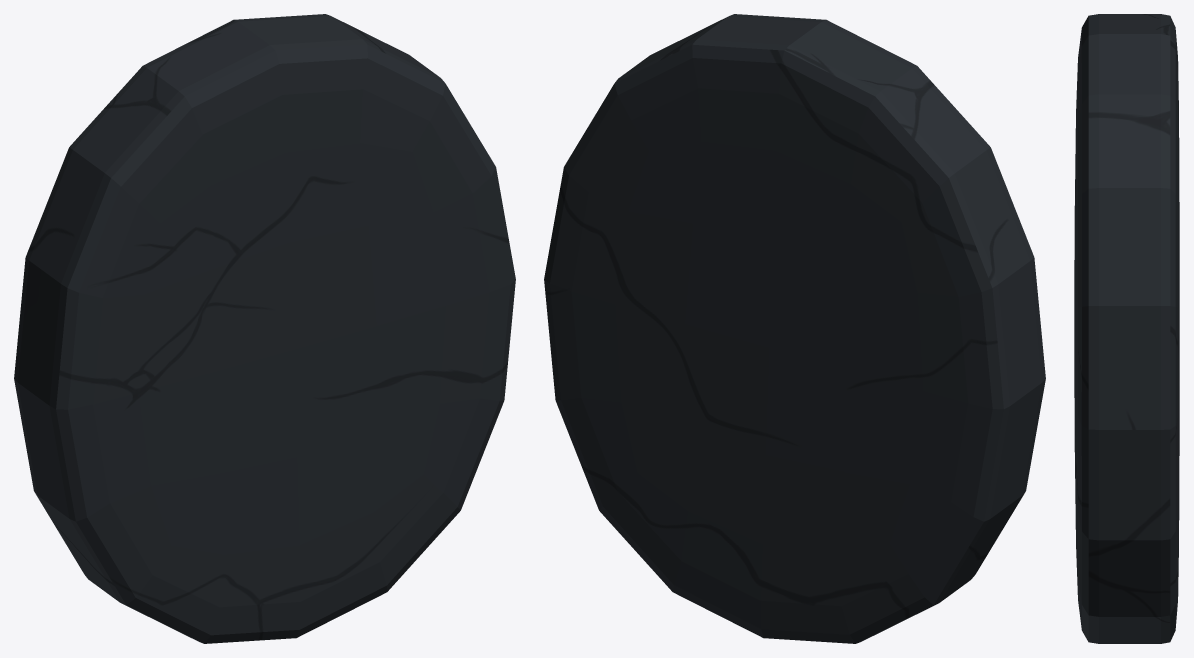
File: Doors.fbx
3 views of the same model, side by side, from view 1: azimuth 30°, elevation 25°; view 2: azimuth 150°, elevation 25°; view 3: azimuth 270°, elevation 25° (orthographic). The views are drawn at different scales.
Parts seen in each view (by area): view 1: Door; view 2: Door; view 3: Door.
Boxes of the visible parts, x1,y1,x2,y2 form: Door: [14, 14, 515, 643]; Door: [544, 14, 1045, 643]; Door: [1074, 14, 1179, 643].
Bounding box in the file's own units: 183 × 226 × 37.21.
Materials: 1 (1 with a texture image).
